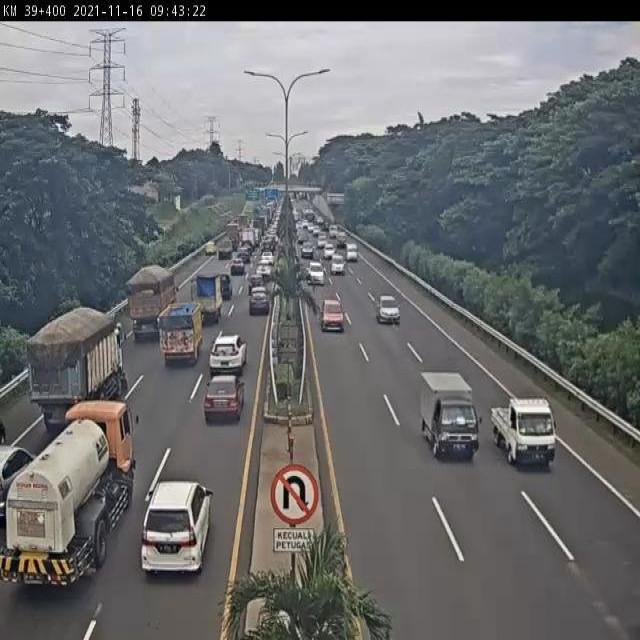car: (137, 461, 219, 588), (487, 385, 564, 475), (198, 368, 247, 428), (206, 330, 252, 386), (0, 436, 42, 497), (244, 282, 274, 322), (374, 286, 404, 326), (317, 298, 347, 334), (326, 248, 345, 277), (246, 267, 267, 293), (304, 255, 324, 282), (218, 270, 234, 302), (227, 253, 246, 279), (341, 236, 360, 261), (202, 236, 222, 257), (254, 261, 272, 283)
small truck: (415, 366, 480, 474)
truck-l-: (28, 301, 137, 432), (115, 264, 178, 339)
truck-m-: (3, 393, 137, 615), (154, 299, 206, 376), (193, 268, 231, 324)
